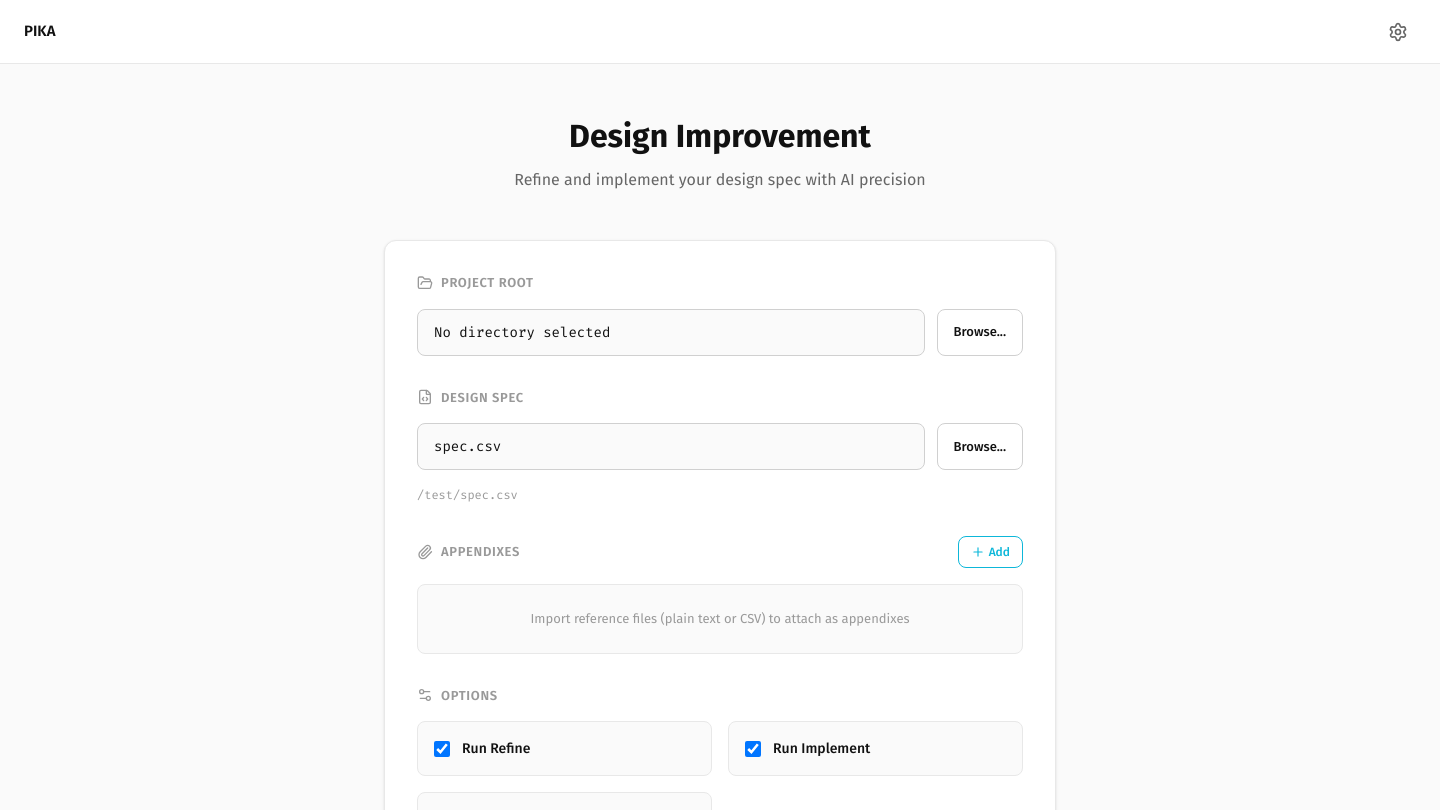
Test: EntryScreen › Appendixes section › Add button opens file dialog and adds CSV appendix with parsed data
Click the button "Add".
click(990, 552)  # box 958,536 -> 1023,568
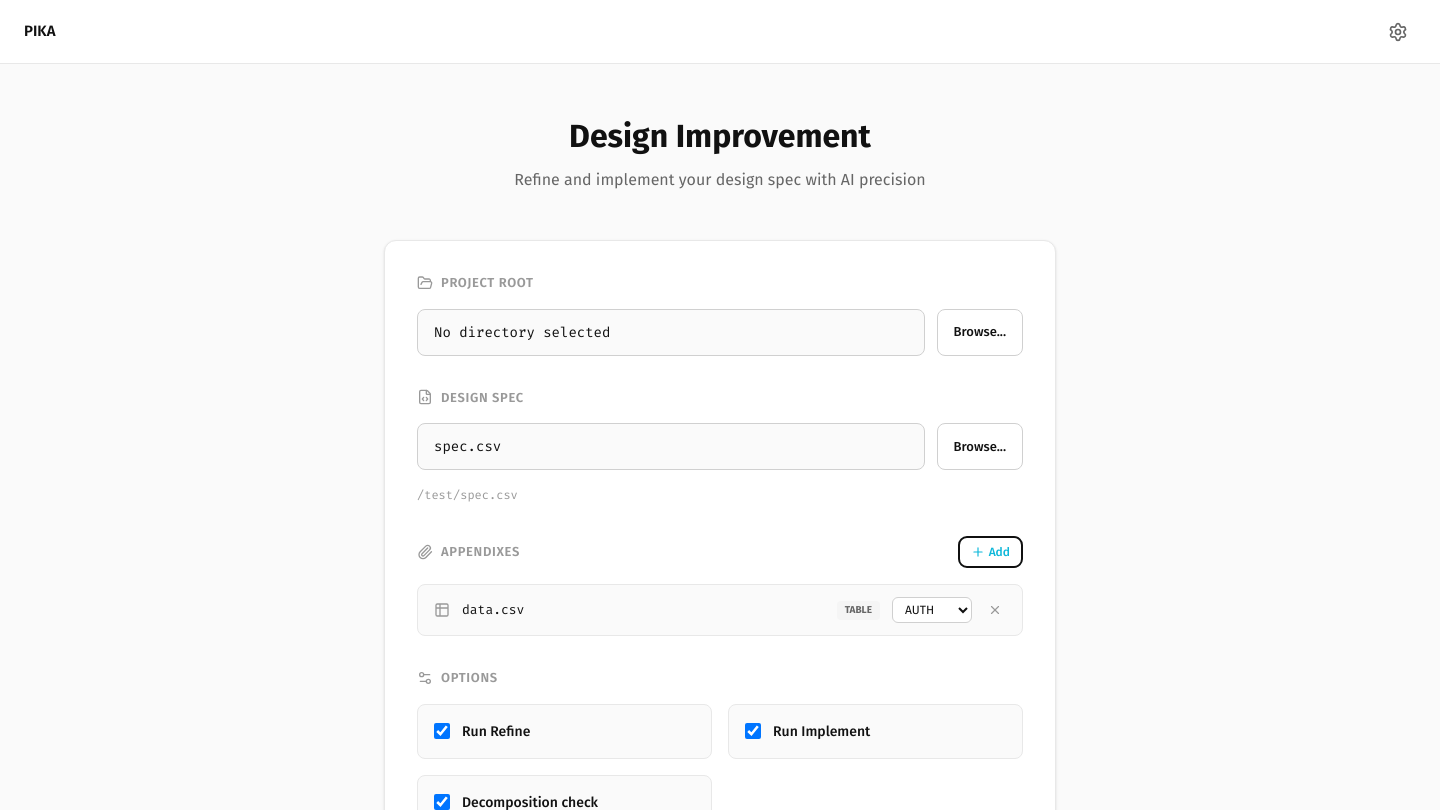
expect the text "data.csv" is shown: met, box 462,601 -> 524,618
